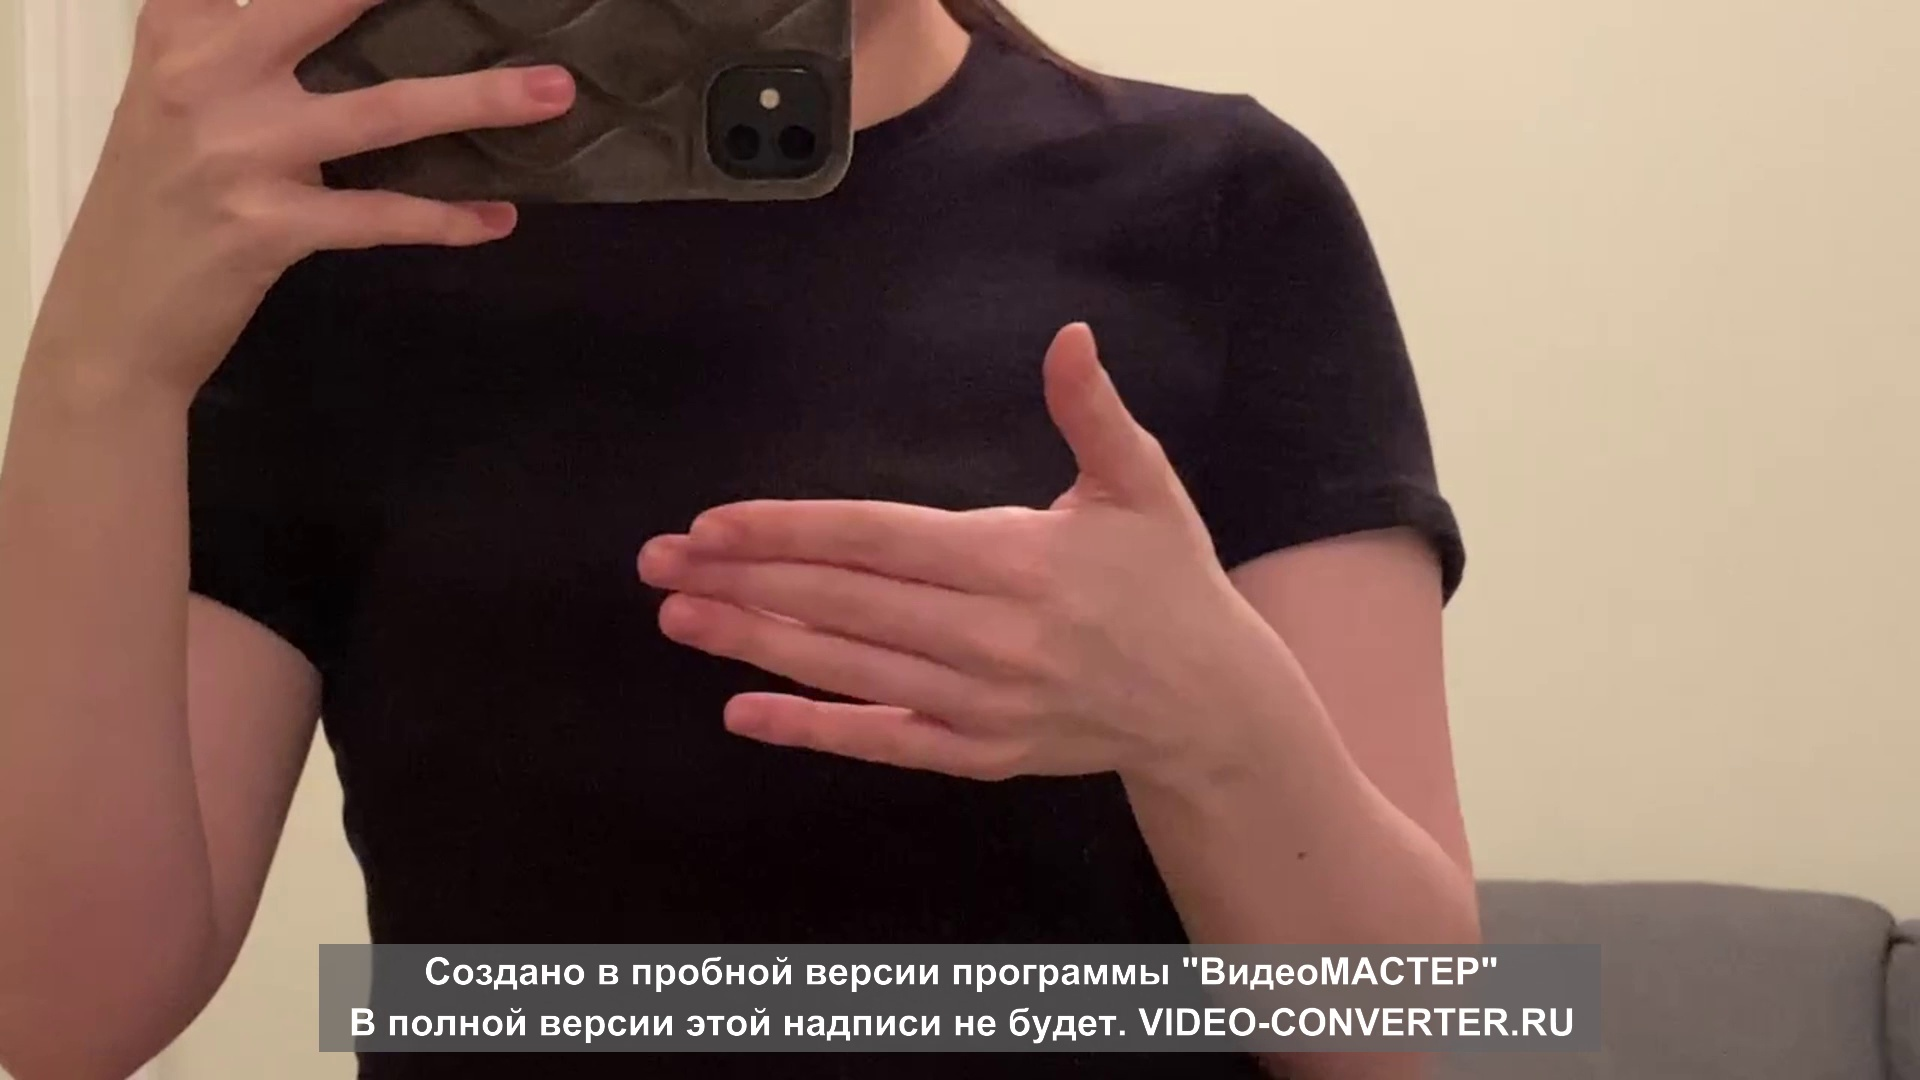Кисть: (636, 319, 1246, 779)
